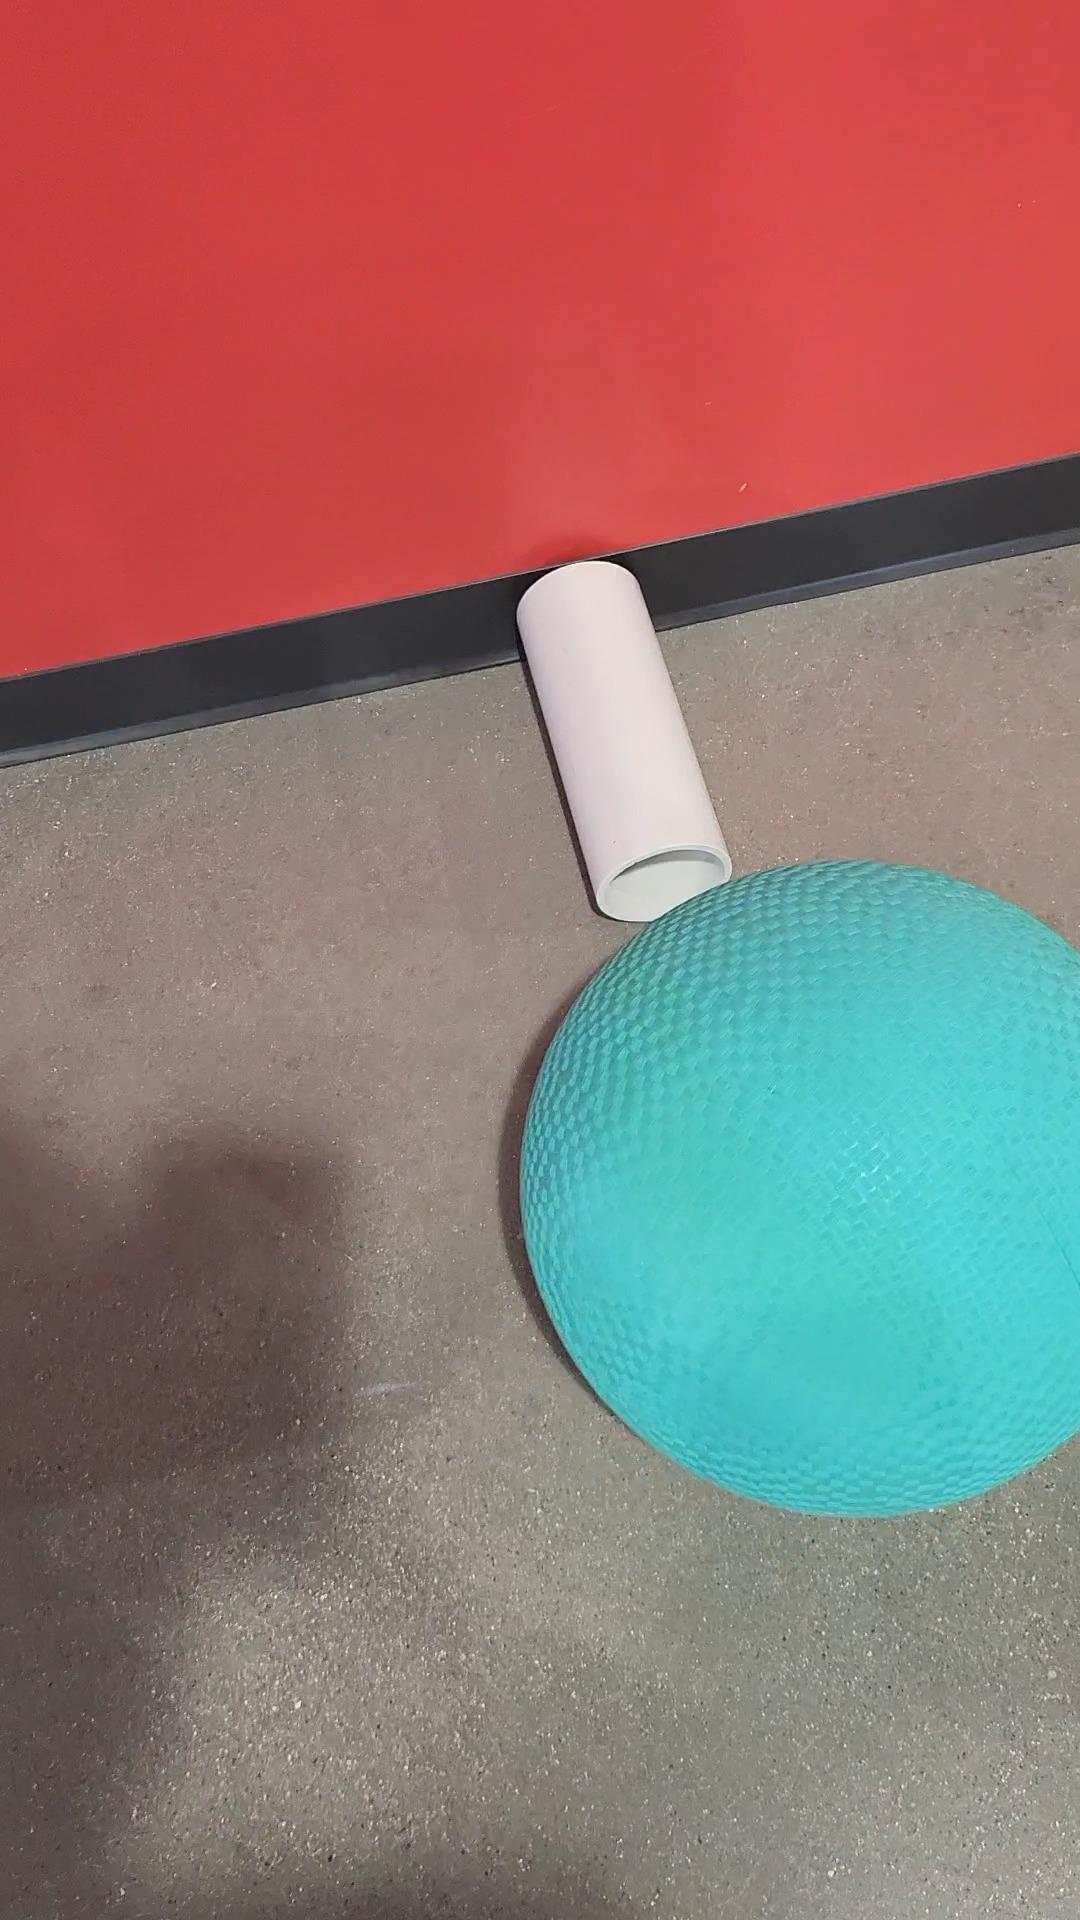algae: (516, 857, 1079, 1523)
coral: (522, 559, 736, 924)
